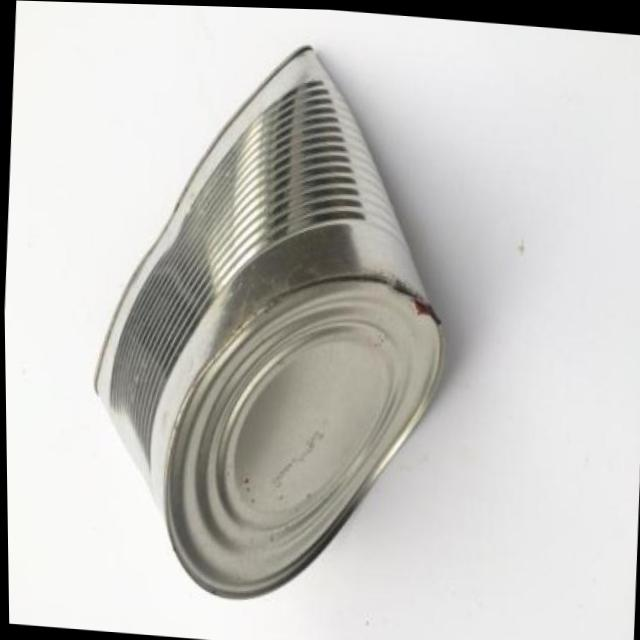metal: (38, 7, 523, 639)
